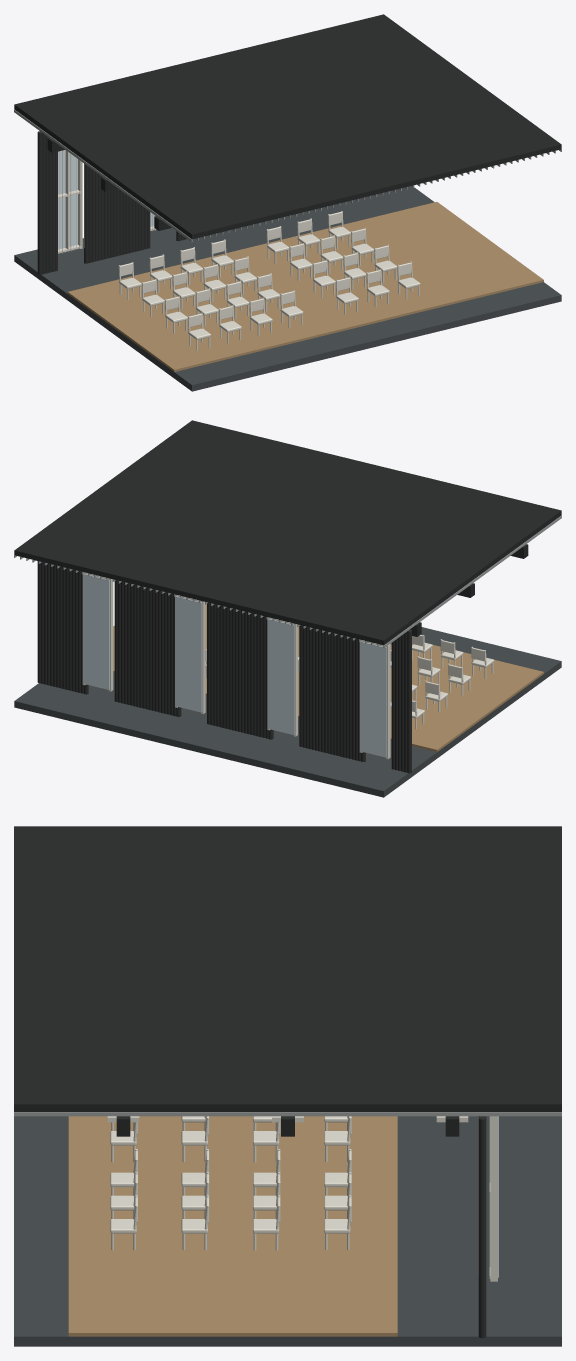
The model's file is scene-2-scenerig.glb.
The picture shows the model from 3 angles, top to bottom: view 1: azimuth 30°, elevation 25°; view 2: azimuth 150°, elevation 25°; view 3: azimuth 270°, elevation 25°; orthographic projection. The views are drawn at different scales.
Parts seen in each view (by area): view 1: ceiling, light parquet seating platform, floor, window sky, full height curtain fold, ceiling acoustic rib, full height curtain fold.001, full height curtain fold.002, full height curtain fold.006, full height curtain fold.003, window mullion, full height curtain fold.004; view 2: ceiling, floor, light parquet seating platform, window sky.002, window sky.003, window sky, window sky.001, full height curtain fold, ceiling acoustic rib, full height curtain fold.001, full height curtain fold.005, full height curtain fold.062 (+54 smaller); view 3: ceiling, light parquet seating platform, floor, ceiling acoustic rib.060, full height curtain fold.084, window jamb.007.
Part boxes in pixels (left/top/right/bottom): ceiling: left=14, top=14, right=561, bottom=239; light parquet seating platform: left=67, top=202, right=543, bottom=371; floor: left=14, top=186, right=561, bottom=391; window sky: left=58, top=150, right=77, bottom=249; full height curtain fold: left=37, top=131, right=42, bottom=274; ceiling acoustic rib: left=14, top=109, right=192, bottom=241; full height curtain fold.001: left=42, top=133, right=45, bottom=274; full height curtain fold.002: left=45, top=135, right=48, bottom=273; full height curtain fold.006: left=84, top=163, right=88, bottom=263; full height curtain fold.003: left=48, top=151, right=51, bottom=272; window mullion: left=65, top=150, right=69, bottom=249; full height curtain fold.004: left=51, top=152, right=54, bottom=271; ceiling: left=14, top=420, right=561, bottom=645; floor: left=14, top=627, right=561, bottom=797; light parquet seating platform: left=113, top=604, right=543, bottom=751; window sky.002: left=175, top=596, right=202, bottom=712; window sky.003: left=83, top=574, right=109, bottom=689; window sky: left=360, top=641, right=386, bottom=757; window sky.001: left=268, top=618, right=294, bottom=734; full height curtain fold: left=407, top=629, right=411, bottom=773; ceiling acoustic rib: left=383, top=515, right=561, bottom=647; full height curtain fold.001: left=404, top=631, right=407, bottom=772; full height curtain fold.005: left=391, top=640, right=394, bottom=769; full height curtain fold.062: left=133, top=584, right=136, bottom=706; ceiling: left=14, top=826, right=561, bottom=1111; light parquet seating platform: left=68, top=1116, right=397, bottom=1336; floor: left=14, top=1116, right=561, bottom=1346; ceiling acoustic rib.060: left=14, top=1112, right=561, bottom=1116; full height curtain fold.084: left=478, top=1117, right=486, bottom=1338; window jamb.007: left=490, top=1116, right=497, bottom=1281.
Size of the model in its own units: 12.14 by 4.87 by 10.
